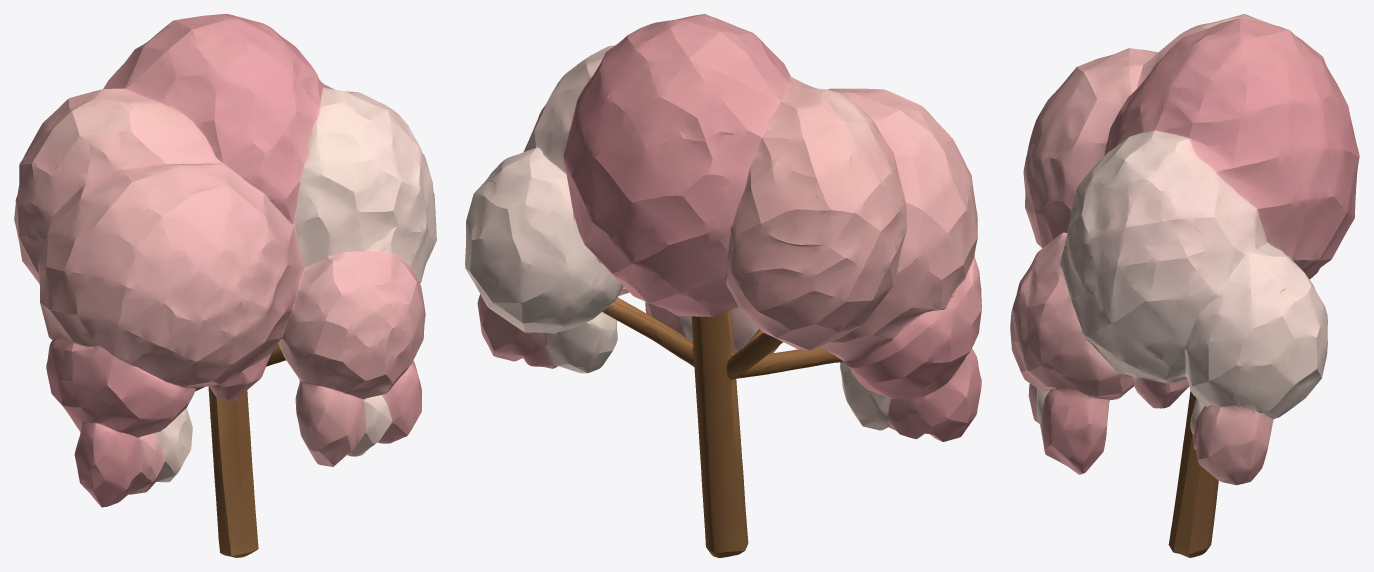
3 views of the same model, side by side, from view 1: azimuth 30°, elevation 25°; view 2: azimuth 150°, elevation 25°; view 3: azimuth 270°, elevation 25° (orthographic). The views are drawn at different scales.
Visible parts, largest first — view 1: model; view 2: model; view 3: model.
Part boxes in pixels (x1,y1,x2,y2): model: (14,14,436,557); model: (465,14,981,557); model: (1010,14,1359,557).
Size of the model in its own units: 1.59 by 1.9 by 1.14.
1 material, 1 textured.
